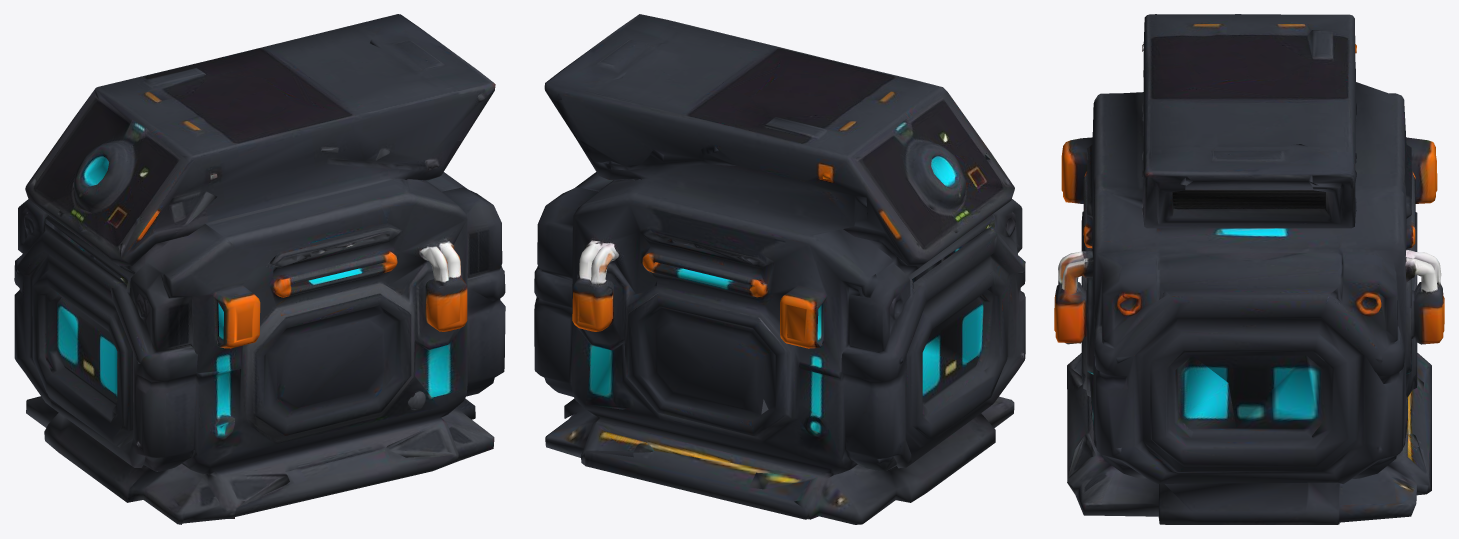
The model's file is open_salvage_hopper.glb.
3 renders of one model, left to right at view 1: azimuth 30°, elevation 25°; view 2: azimuth 150°, elevation 25°; view 3: azimuth 270°, elevation 25°, orthographic. The views are drawn at different scales.
Size of the model in its own units: 1.9 by 1.63 by 1.58.
1 material, 1 textured.
